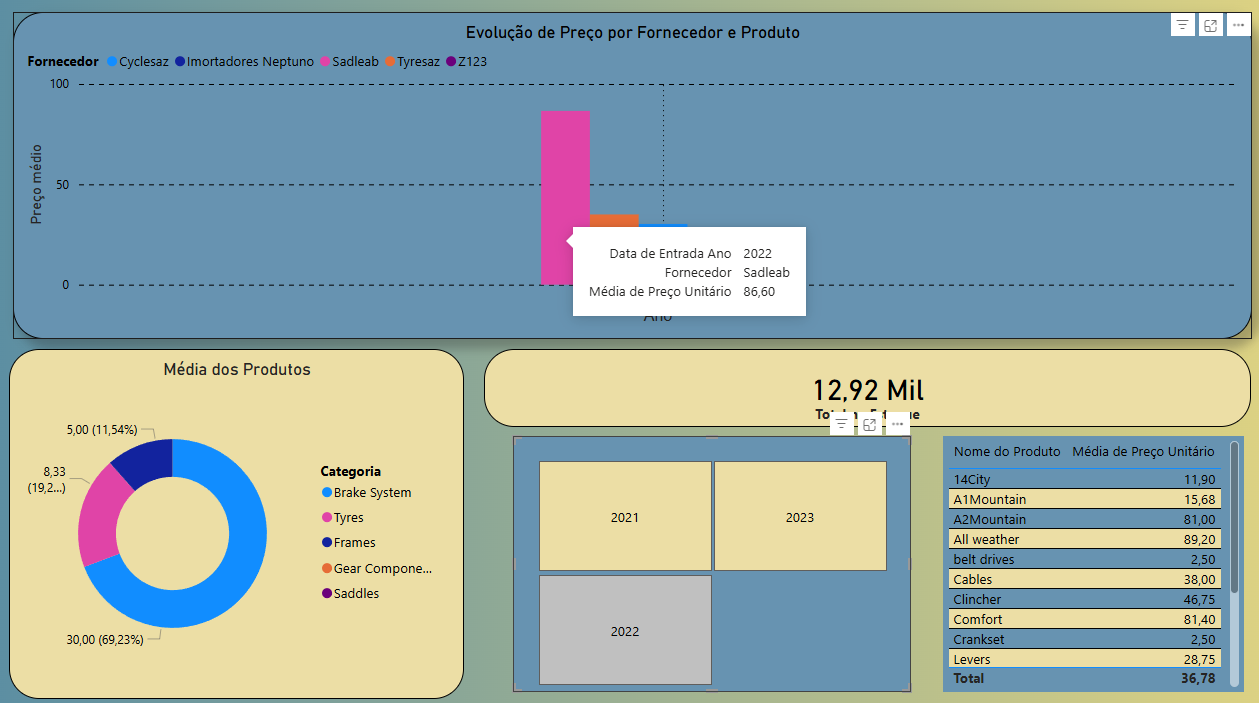

What the dashboard file says about the page in this screenshot:
{"tool":"powerbi","page":{"name":"Página 1","canvas":[1280,720],"ordinal":0},"visuals":[{"type":"clusteredColumnChart","title":"Evolução de Preço por Fornecedor e Produto","fields":{"Category":["Products.Data de Entrada.Variation.Hierarquia de datas.Ano"],"Y":["Avg(Products.Preço Unitário)"],"Series":["Products.Fornecedor"]},"box":[20.4,26.3,1238.2,326.8],"z":0},{"type":"card","title":"fwfdqw","fields":{"Values":["Sum(Products.Unidades em Estoque)"]},"box":[491.2,362.8,767.4,77.8],"z":0,"group":"g1"},{"type":"donutChart","title":"Média dos Produtos","fields":{"Y":["Avg(Products.Unidades sob Pedido)"],"Category":["Products.Categoria"]},"box":[16,362.7,454.6,350.7],"z":1000},{"type":"group","id":"g1","title":"Grupo 1","box":[491.2,362.8,767.4,77.8],"z":2000},{"type":"textbox","box":[800.5,414.3,149.8,35],"z":3000},{"type":"tableEx","fields":{"Values":["Products.Nome do Produto","Avg(Products.Preço Unitário)"]},"box":[950.3,449.6,300.8,256.8],"z":4000},{"type":"slicer","fields":{"Values":["Products.Data de Entrada.Variation.Hierarquia de datas.Ano"]},"box":[519.6,449.6,398.7,256.8],"z":5000},{"type":"shape","box":[721.3,588.1,173.2,110],"z":6000}]}

Visuals, with their boxes in screenshot pixels (x1, y1, x2, y2), scaled from the page's 1280x720 canvas onto the 1259x703 screenshot:
"Evolução de Preço por Fornecedor e Produto" clusteredColumnChart: Rect(20, 26, 1238, 345)
"fwfdqw" card: Rect(483, 354, 1238, 430)
"Média dos Produtos" donutChart: Rect(16, 354, 463, 697)
"Grupo 1" group: Rect(483, 354, 1238, 430)
textbox: Rect(787, 405, 935, 439)
tableEx - Products.Nome do Produto x Avg(Products.Preço Unitário): Rect(935, 439, 1231, 690)
slicer - Products.Data de Entrada.Variation.Hierarquia de datas.Ano: Rect(511, 439, 903, 690)
shape: Rect(709, 574, 880, 682)
